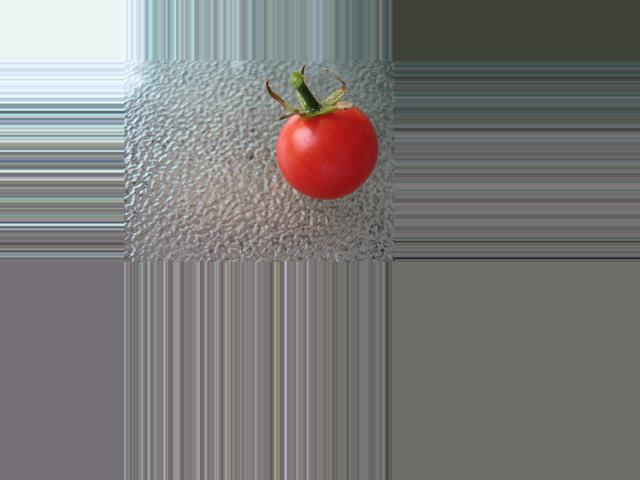tomato: (274, 106, 377, 200)
